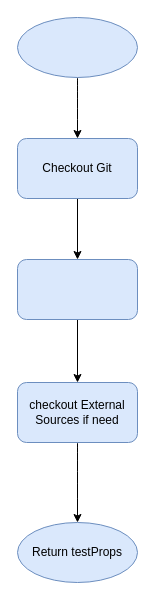
This 155x600 diagram has some shape labels left out. The shapes that lost their labels are listed below. From the top down, each one's centre as x and y in pixels, then its label:
At point 77,47: "Init".
At point 77,289: "Load Props from config file and additional Properties".
